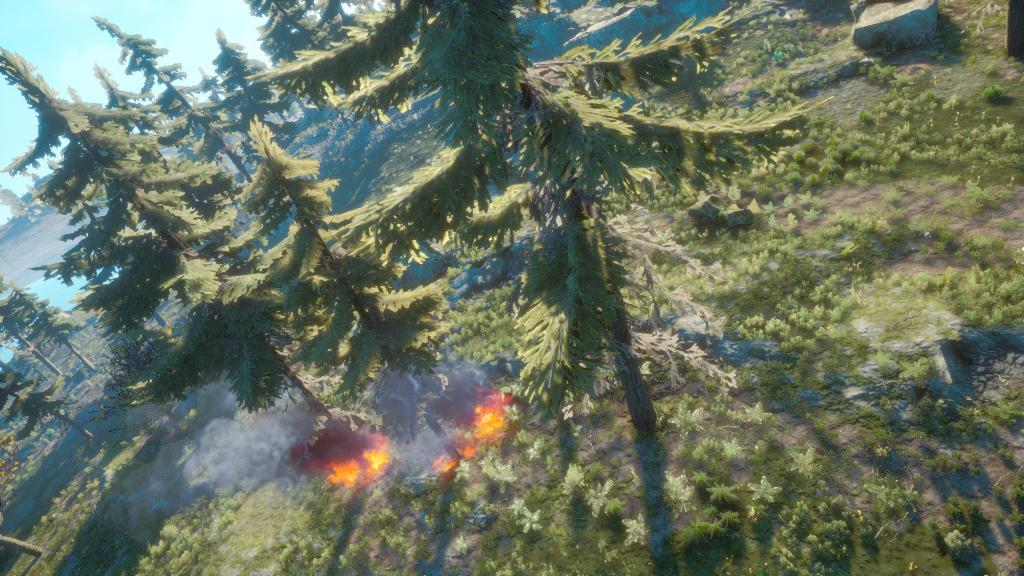Fire: (423, 378, 539, 476), (292, 430, 395, 503)
